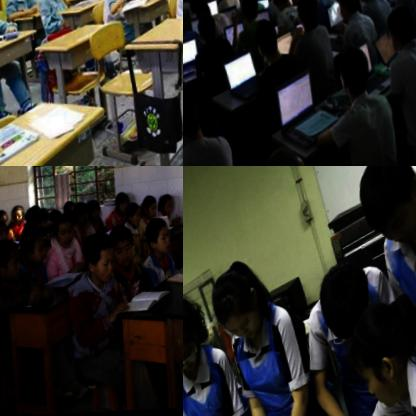head: (342, 292, 416, 416), (311, 258, 381, 350), (349, 166, 416, 260), (208, 263, 276, 347), (333, 42, 380, 99), (80, 229, 123, 286), (183, 295, 212, 378), (382, 2, 416, 55), (252, 141, 324, 166), (183, 82, 209, 149), (143, 216, 179, 262), (253, 15, 285, 61), (0, 237, 29, 285), (110, 226, 140, 270), (291, 0, 328, 34), (23, 229, 51, 269), (54, 211, 82, 249), (195, 12, 221, 45), (334, 0, 364, 23), (238, 0, 264, 26), (73, 199, 94, 228), (35, 208, 56, 234), (127, 204, 147, 230), (87, 197, 106, 224), (142, 196, 162, 220), (0, 217, 14, 250), (117, 192, 134, 218), (271, 0, 295, 17), (160, 194, 177, 218), (50, 207, 68, 229), (183, 5, 196, 34), (12, 205, 30, 225), (192, 0, 210, 17), (65, 200, 80, 220), (0, 207, 14, 228), (189, 0, 201, 7)
